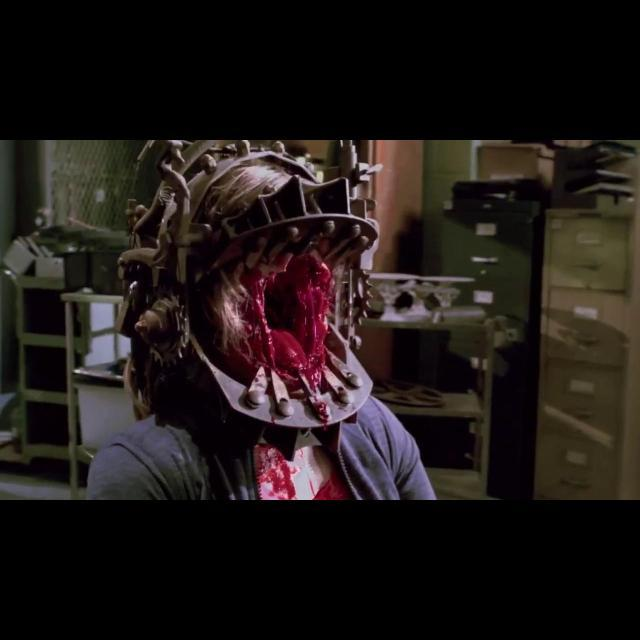blood: (230, 250, 351, 425), (253, 442, 348, 500)
